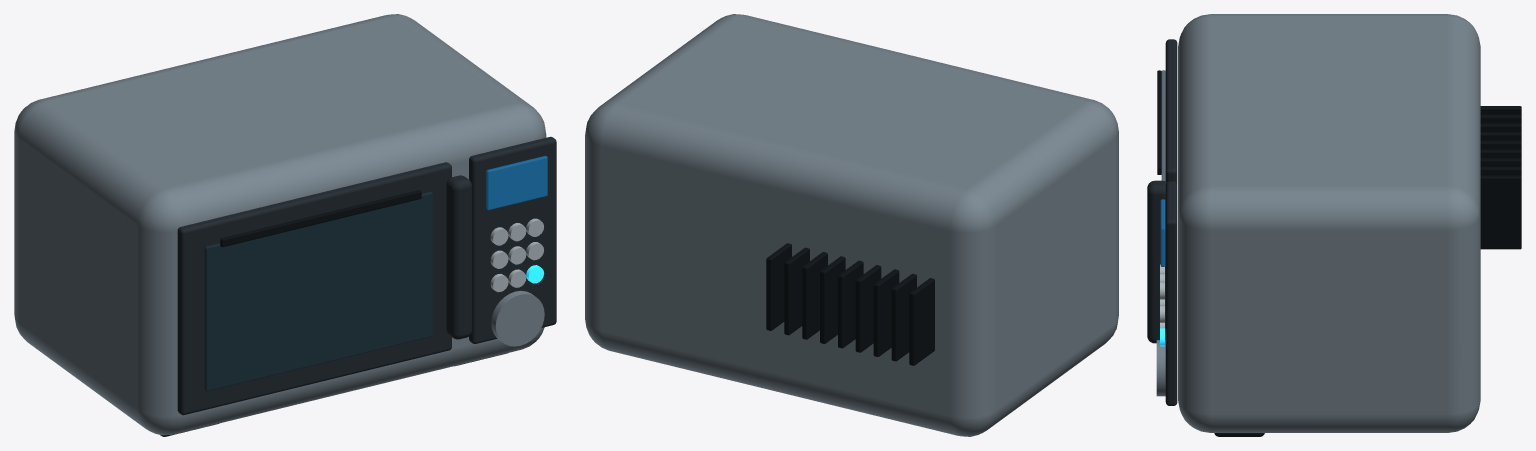
The model's file is microwave-oven.glb.
3 views of the same model, side by side, from view 1: azimuth 30°, elevation 25°; view 2: azimuth 150°, elevation 25°; view 3: azimuth 270°, elevation 25° (orthographic).
Visible parts, largest first — view 1: Microwave enclosure, Microwave door, Tinted viewing window, Control panel, Door handle, Clock display, Control dial, Door upper trim; view 2: Microwave enclosure, Rear cooling vent (×9); view 3: Microwave enclosure, Rear cooling vent (×9), Control panel, Door handle, Microwave door, Tinted viewing window, Control dial, Door upper trim, Clock display.
Boxes of the visible parts, x1,y1,x2,y2 form: Microwave enclosure: [14, 14, 546, 435]; Microwave door: [177, 162, 451, 415]; Tinted viewing window: [204, 191, 432, 391]; Control panel: [469, 136, 556, 343]; Door handle: [446, 175, 471, 339]; Clock display: [486, 156, 547, 210]; Control dial: [491, 290, 544, 346]; Door upper trim: [220, 190, 421, 247]; Microwave enclosure: [585, 14, 1118, 436]; Rear cooling vent (×9): [766, 243, 934, 365]; Microwave enclosure: [1178, 14, 1480, 432]; Rear cooling vent (×9): [1480, 106, 1521, 249]; Control panel: [1165, 181, 1177, 405]; Door handle: [1147, 180, 1166, 343]; Microwave door: [1165, 39, 1177, 183]; Tinted viewing window: [1161, 70, 1165, 181]; Control dial: [1156, 340, 1165, 396]; Door upper trim: [1157, 70, 1161, 174]; Clock display: [1160, 199, 1165, 266].
Bounding box in the file's own units: 1.82 × 1.08 × 1.46.
